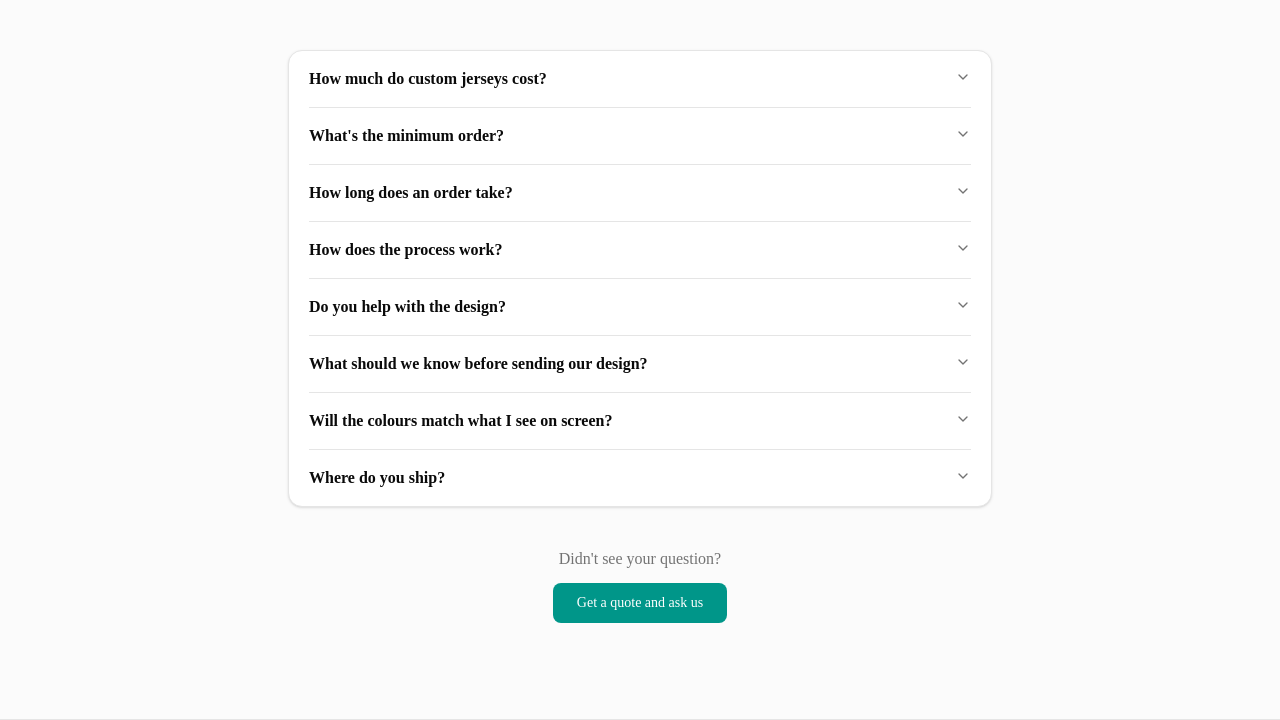
it: F-03: the rendered FAQ (signed-out visitor) › shipping: the open panel reads exactly as the approved text (each heading, paragraph, list item and fine print)
The image size is (1280, 720).
(page scrolled)
Click the button "Where do you ship?" at (377,478), box [309, 450, 971, 506]
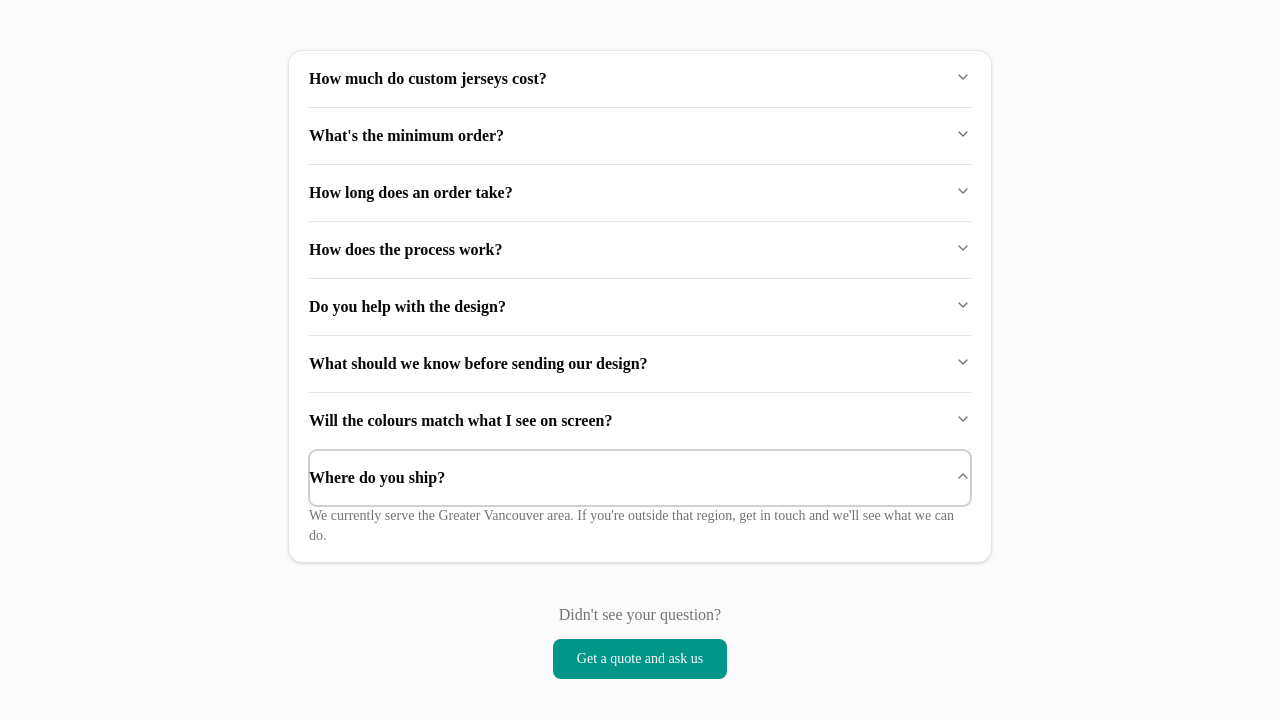
Now the button "Where do you ship?" is expanded, box [309, 450, 971, 506]
